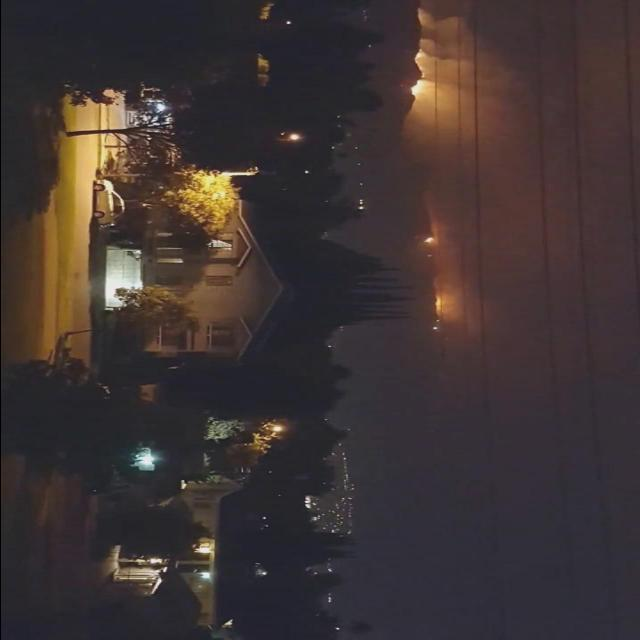Fire: (407, 49, 427, 97), (434, 295, 446, 315), (423, 236, 433, 246)
